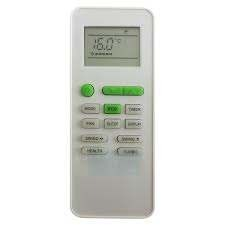remote control: (72, 8, 156, 218)
